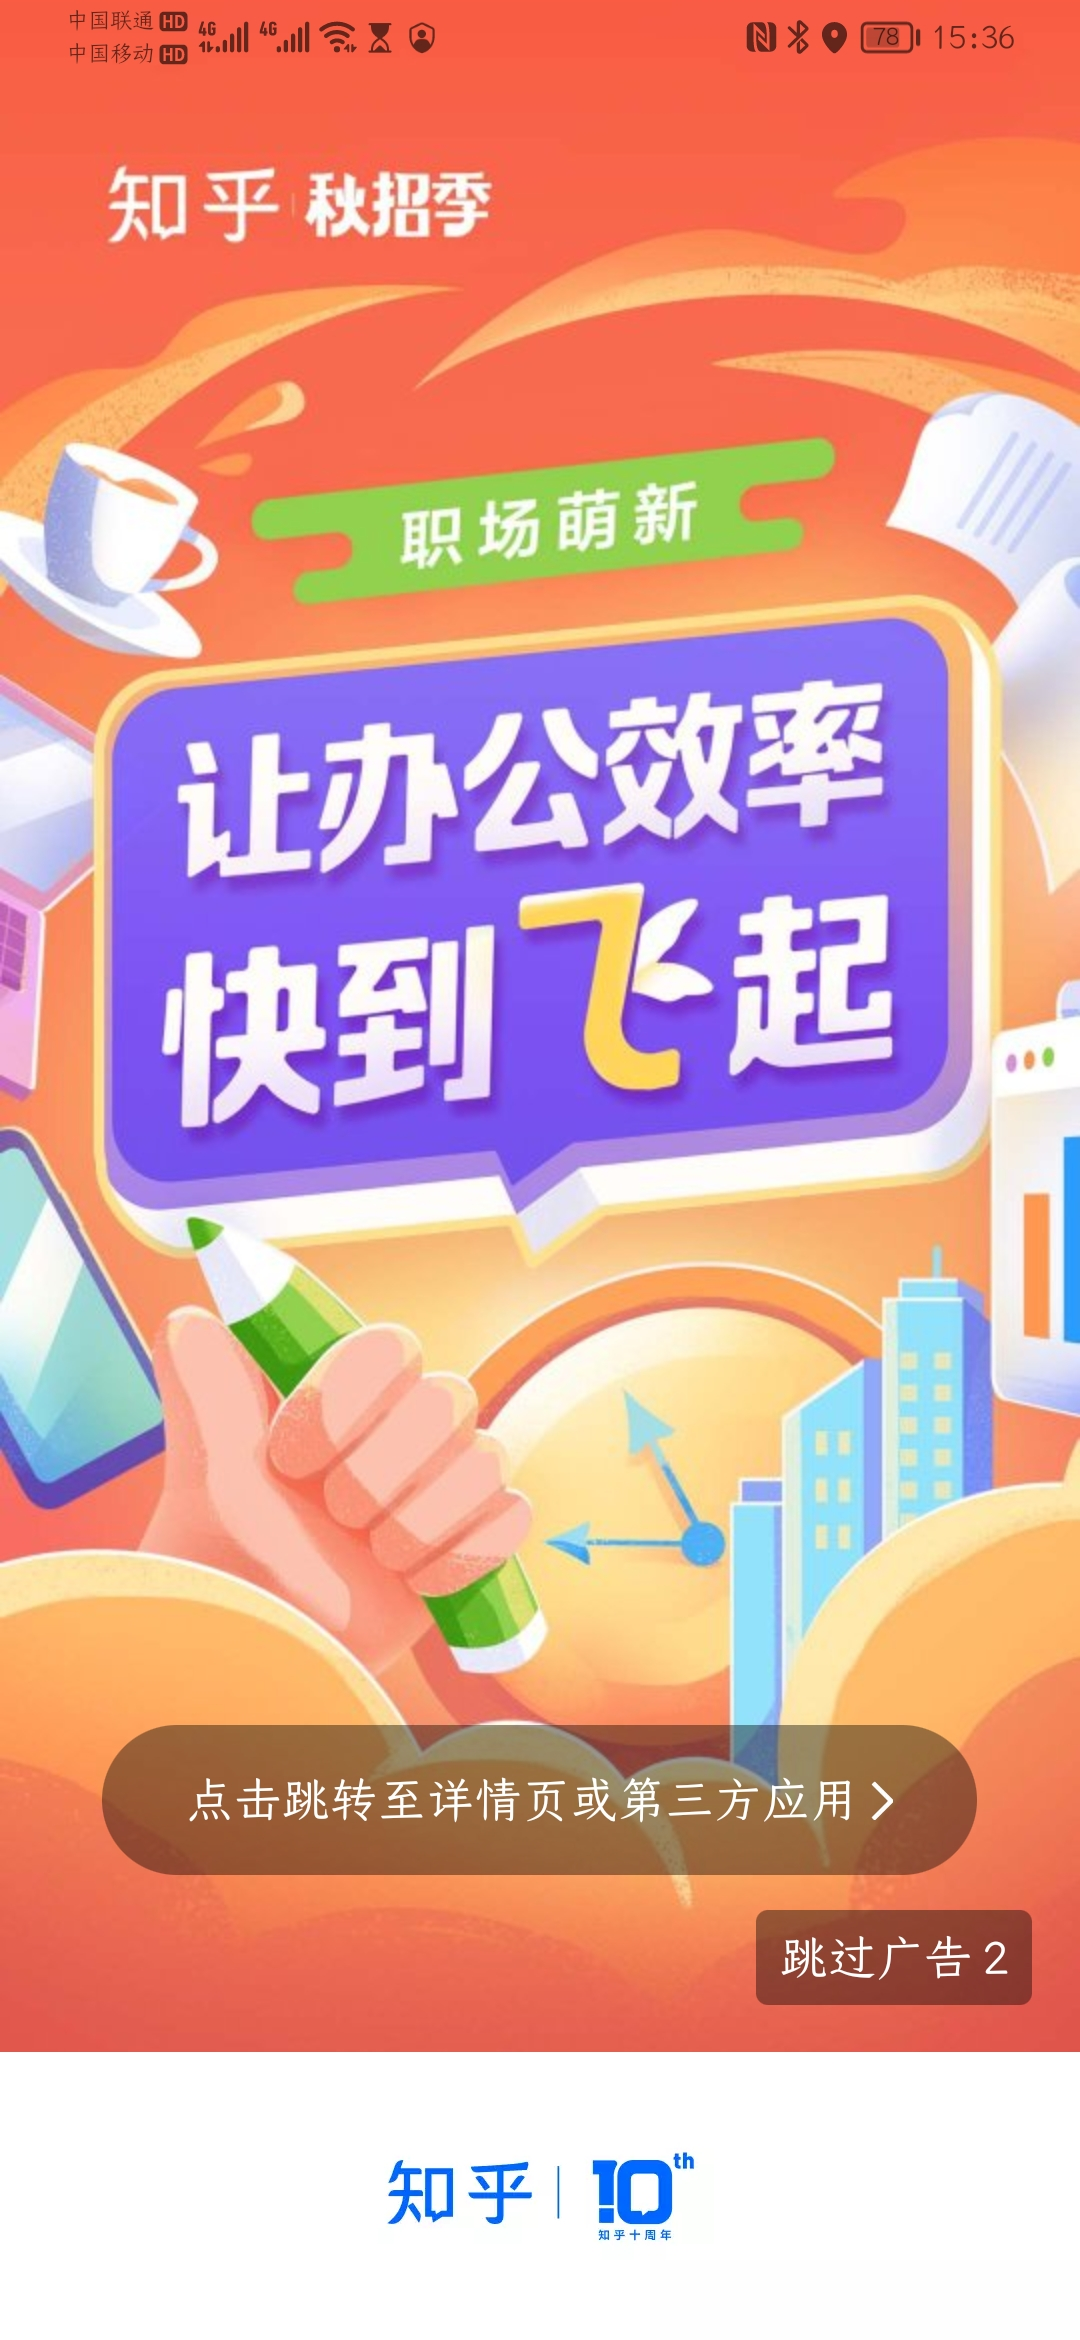skip: (770, 1912, 1031, 2003)
